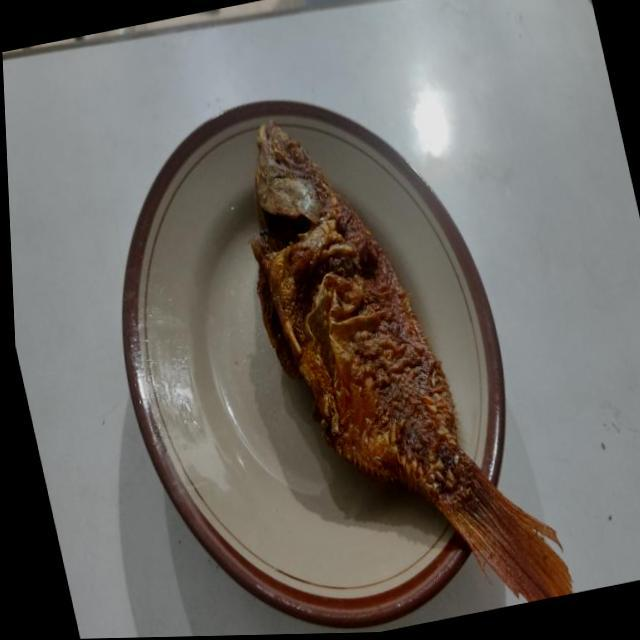ikan_mujair: (251, 120, 572, 602)
